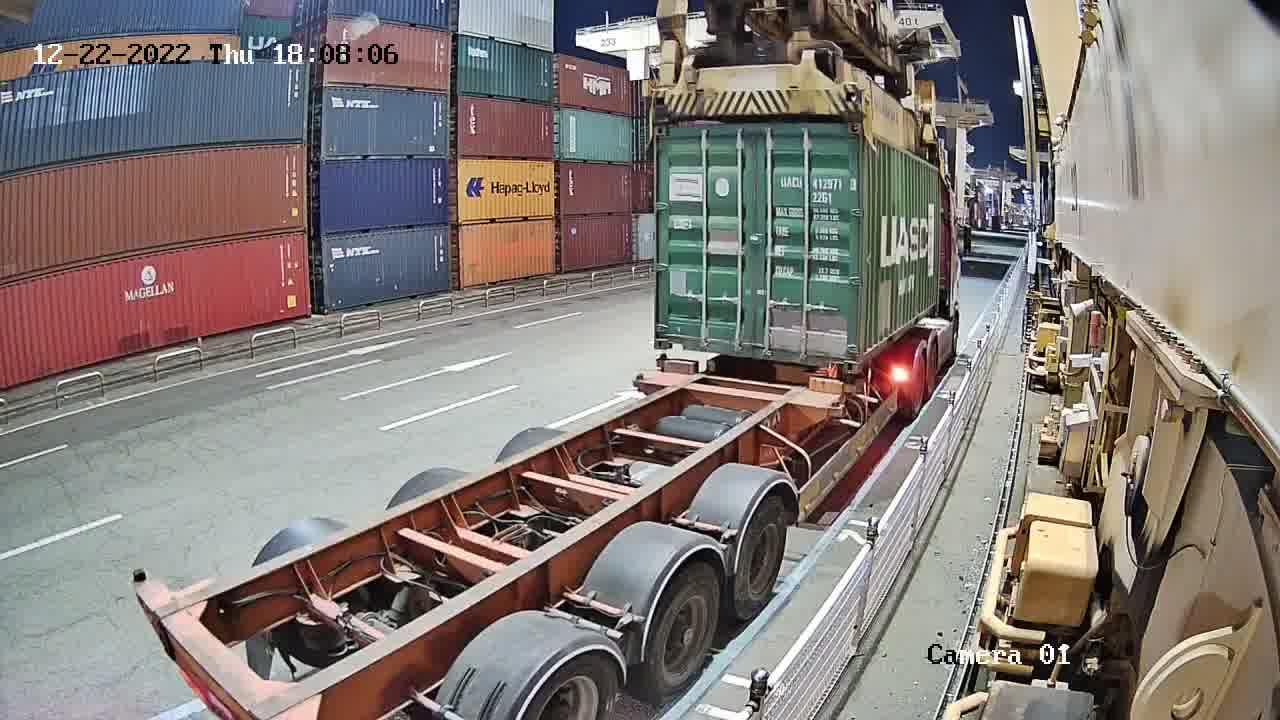Chassis: (654, 360, 856, 395)
Cone: (843, 375, 857, 395), (656, 354, 668, 372)
Hole_L: (654, 322, 684, 349)
Hole_R: (827, 342, 858, 373)
Tire: (912, 355, 925, 413), (927, 341, 940, 391)
